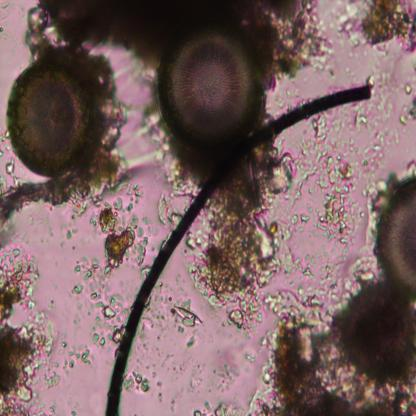Background material: (191, 144, 289, 332), (245, 319, 416, 416), (85, 0, 269, 63), (290, 114, 364, 258), (0, 242, 54, 415), (334, 282, 416, 384), (76, 48, 127, 202), (246, 1, 332, 82), (0, 167, 85, 226), (25, 0, 98, 65), (334, 0, 416, 56), (72, 260, 128, 341), (95, 200, 148, 266), (263, 288, 328, 334), (368, 68, 398, 163), (146, 286, 179, 337), (207, 350, 240, 390), (192, 396, 263, 413), (60, 339, 93, 375), (397, 82, 416, 129), (122, 370, 152, 397), (159, 194, 182, 228), (0, 1, 17, 44), (405, 162, 416, 178), (186, 334, 196, 350), (62, 230, 75, 242)
Diatom: (157, 25, 262, 148), (6, 61, 95, 178), (374, 174, 416, 300), (176, 306, 201, 326)
